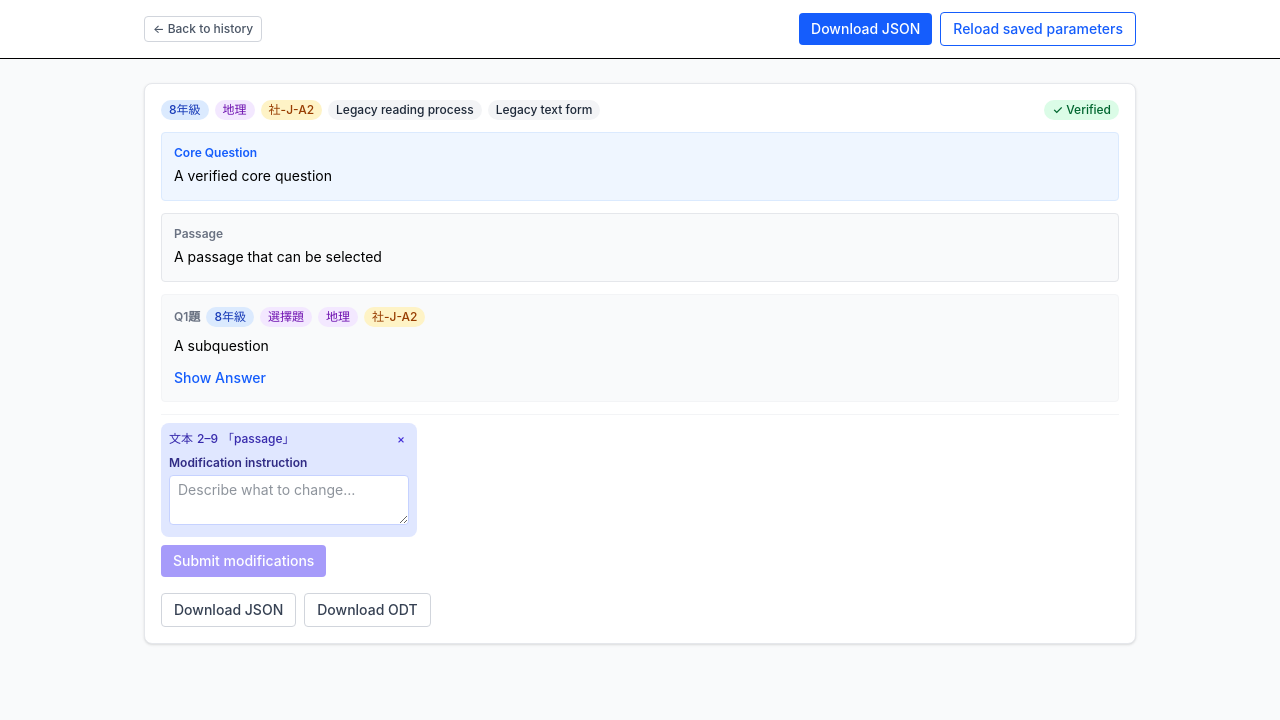
it: HistoryDetail 人工審題修正 integration › shows functional annotation affordances for a verified history record
Expected: the text "A passage that can be selected" is shown, [174,248,382,265]
Expected: the text "Legacy reading process" is shown, [328,100,482,120]
Type "Fix this wording" into the text box named "Modification instruction 1" at (289, 500), box [169,475,409,525]
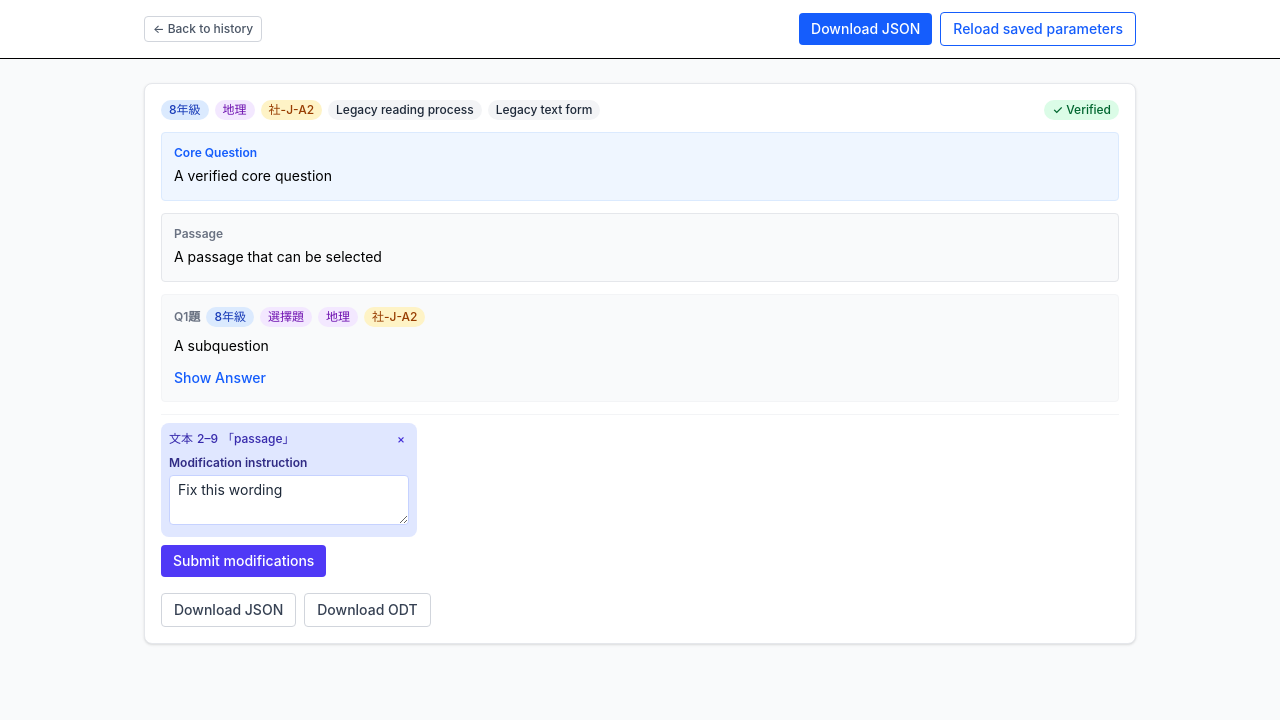
Expected: the list named "Selections" shows "passage", [234,431,283,446]
Expected: the button "Submit modifications" is enabled, [161,545,326,577]
